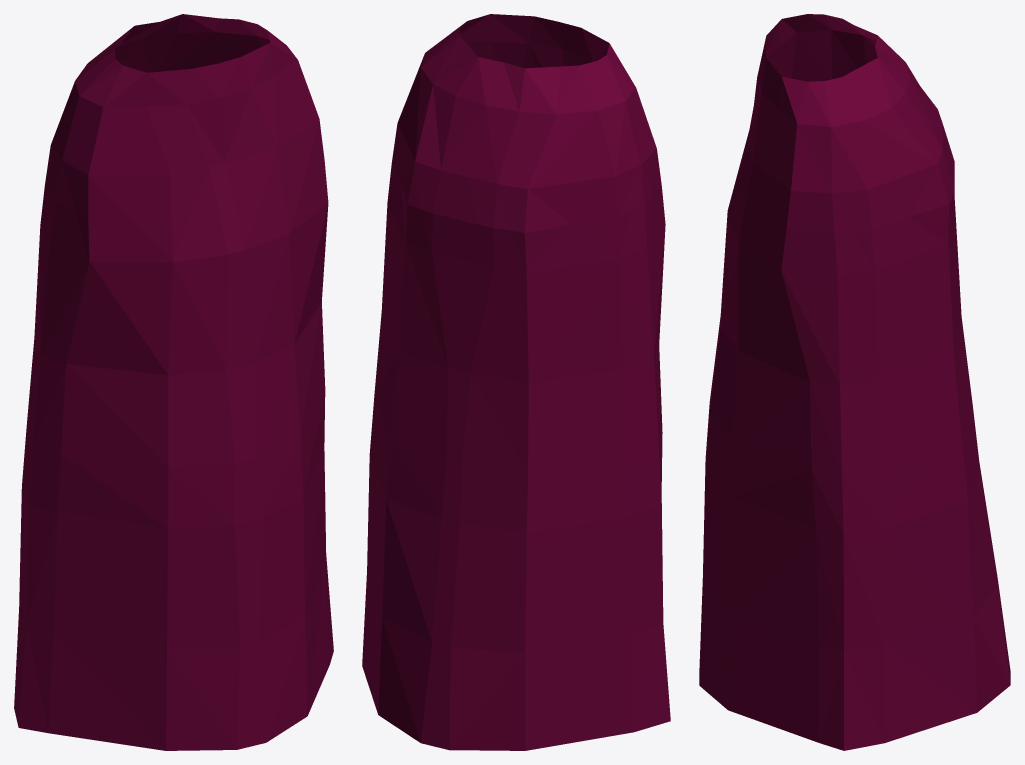
File: long_skirt_violet.obj
The picture shows the model from 3 angles, left to right: view 1: azimuth 30°, elevation 25°; view 2: azimuth 150°, elevation 25°; view 3: azimuth 270°, elevation 25°; orthographic projection. The views are drawn at different scales.
Parts seen in each view (by area): view 1: g1_avatar_skirt; view 2: g1_avatar_skirt; view 3: g1_avatar_skirt.
Part boxes in pixels (box(x1,y1,x2,y2)): g1_avatar_skirt: box(14, 14, 333, 750); g1_avatar_skirt: box(362, 14, 670, 750); g1_avatar_skirt: box(699, 14, 1010, 750).
Size of the model in its own units: 0.3366 by 0.6718 by 0.2998.
